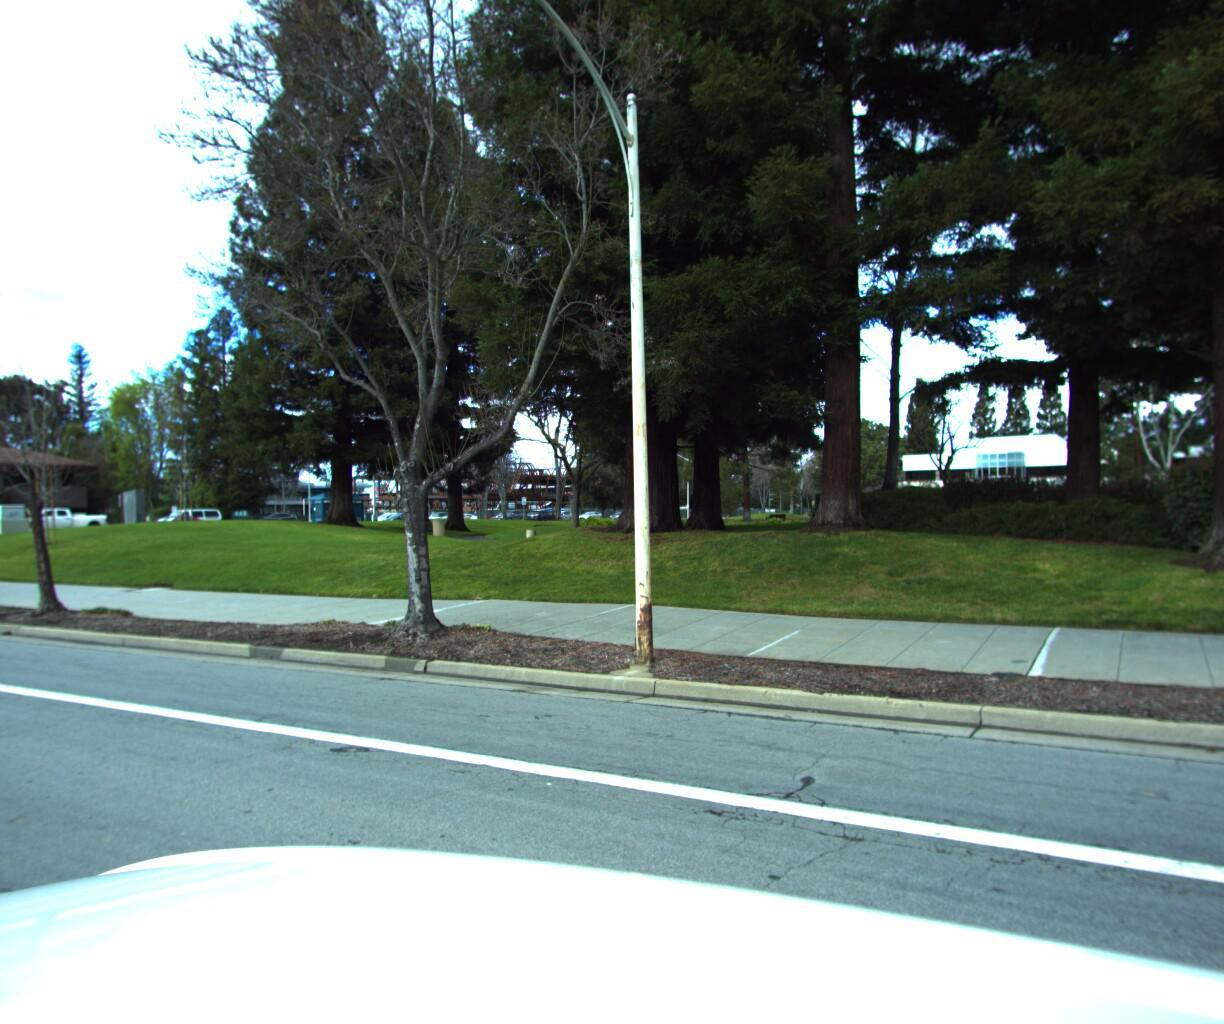car: (4, 502, 115, 534), (152, 502, 226, 527), (0, 511, 7, 548)
